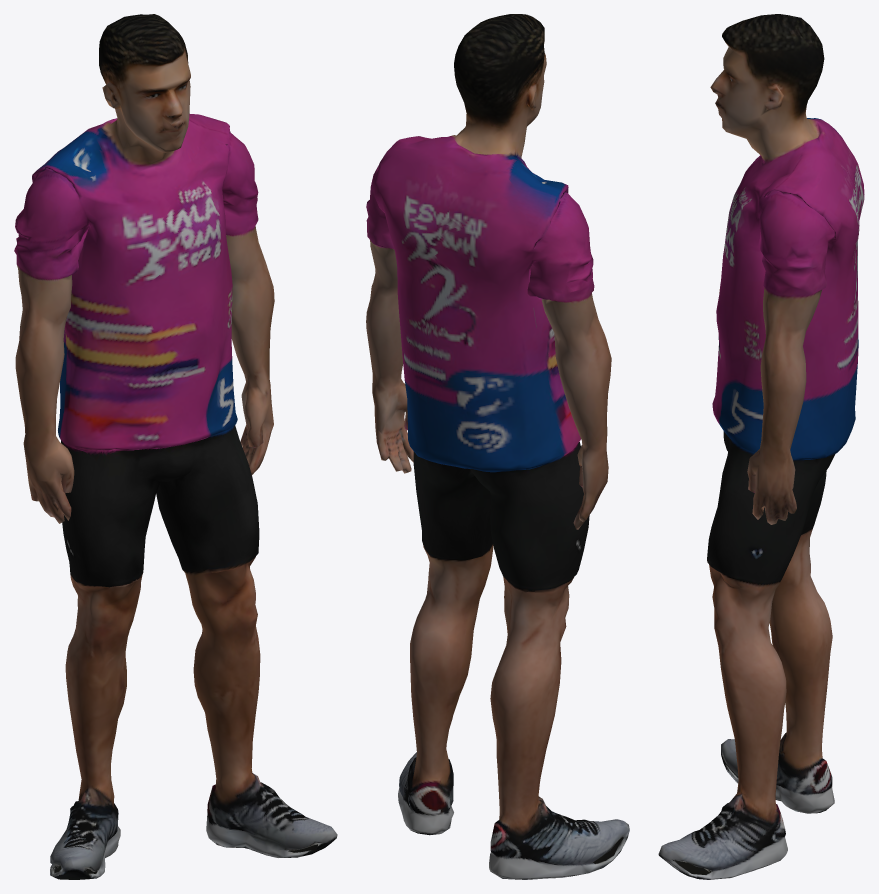
The model's file is 5_3_idle.glb.
The picture shows the model from 3 angles, left to right: view 1: azimuth 30°, elevation 25°; view 2: azimuth 150°, elevation 25°; view 3: azimuth 270°, elevation 25°; orthographic projection. The views are drawn at different scales.
Parts seen in each view (by area): view 1: Idle; view 2: Idle; view 3: Idle.
Boxes of the visible parts, x1=… form: Idle: x1=14, y1=14, x2=337, y2=879; Idle: x1=366, y1=14, x2=629, y2=879; Idle: x1=658, y1=14, x2=864, y2=879.
Size of the model in its own units: 31.88 by 99.83 by 23.24.
Materials: 1 (1 with a texture image).
